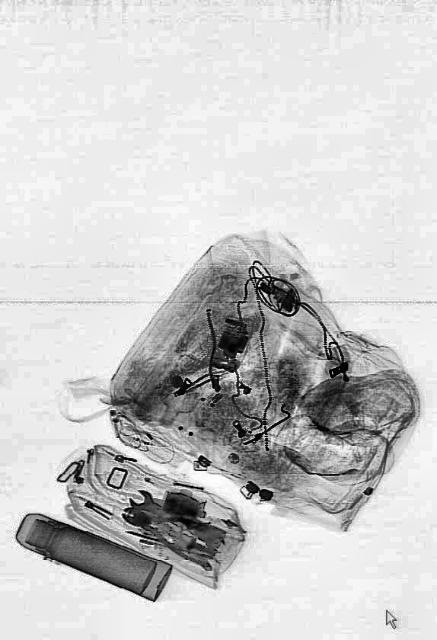Pliers: (117, 486, 214, 570)
Wrench: (126, 482, 198, 540)
